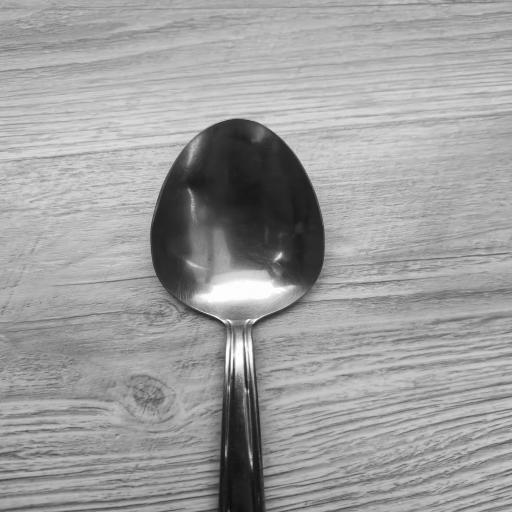spoon: (154, 116, 322, 512)
